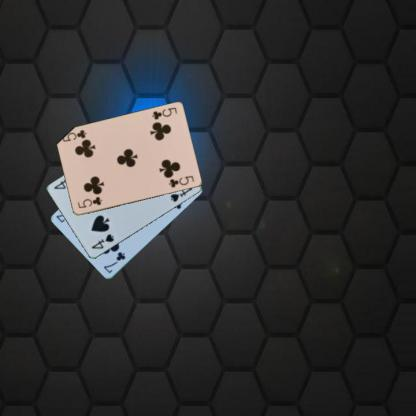4s: (89, 232, 115, 250)
5c: (75, 194, 103, 210), (150, 105, 178, 121)
7c: (101, 250, 127, 274)
